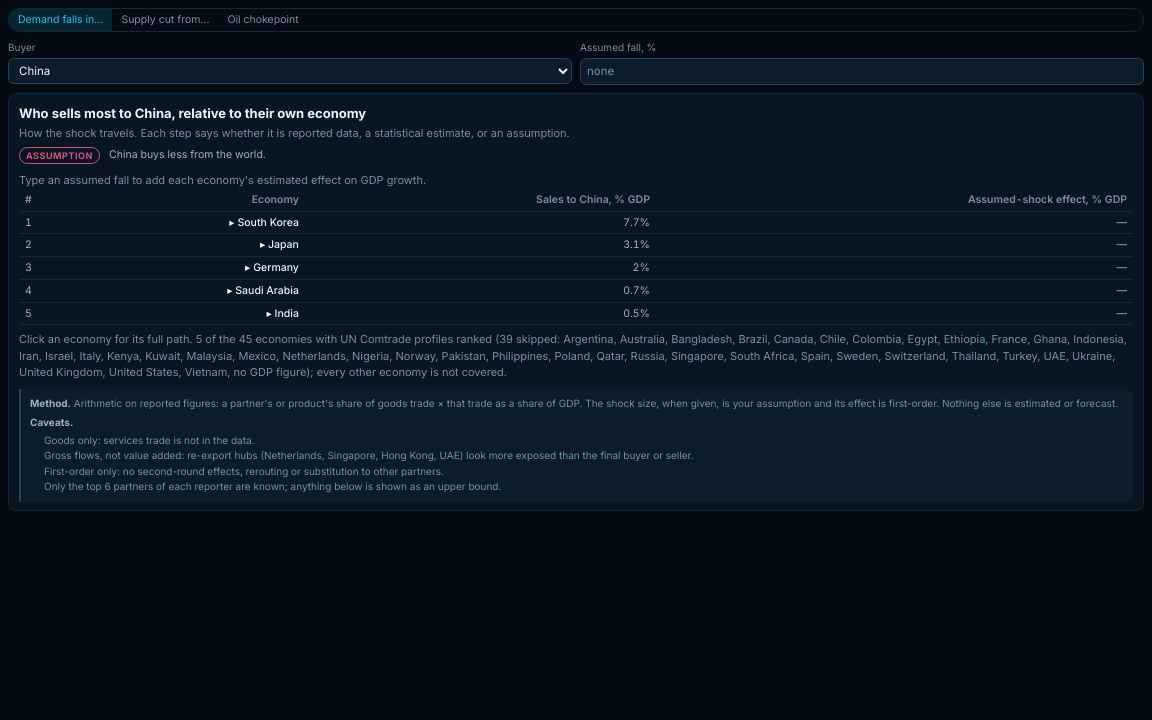
Test: ExposurePanel › keeps the trade effect and says so when the history cannot be loaded
This screenshot has width=1152, height=720.
In the number field labelled "Assumed fall, %": (862, 71) [580,58,1144,85], type "10"
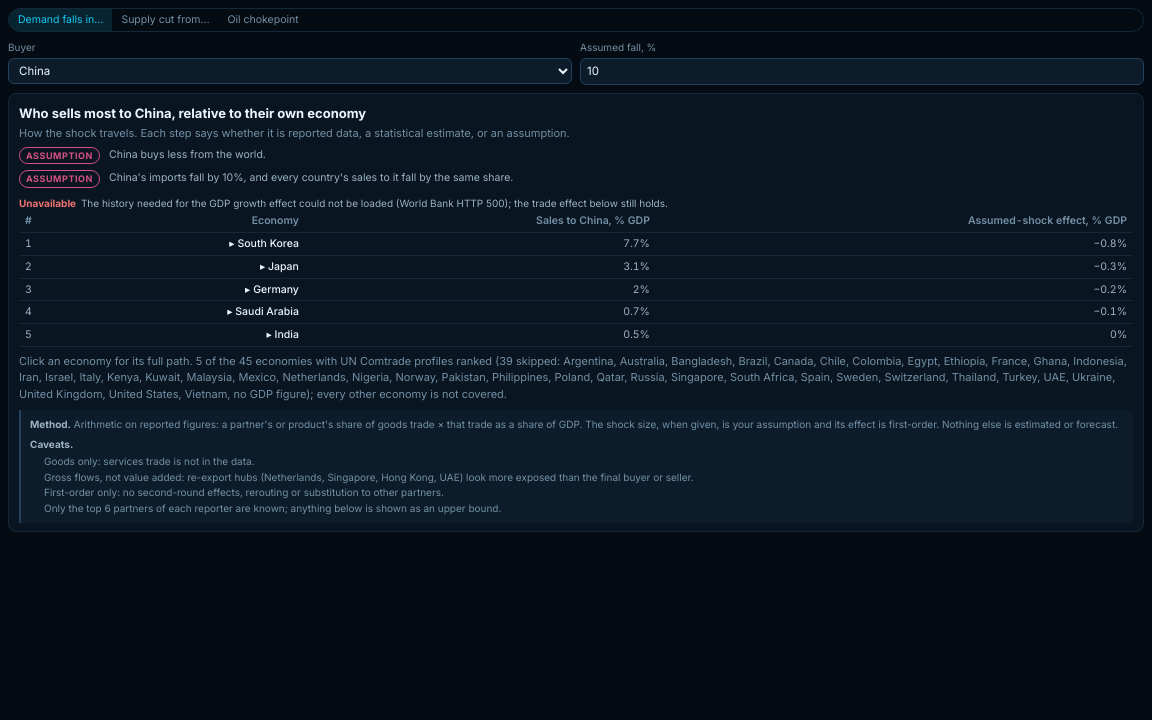
Now the message shows "the trade effect below still holds", box [508,197,668,209]
